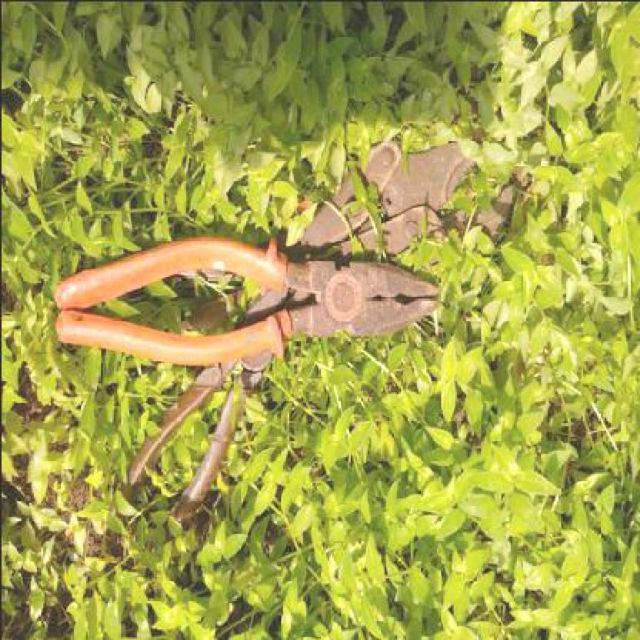pliers: (54, 229, 443, 365)
